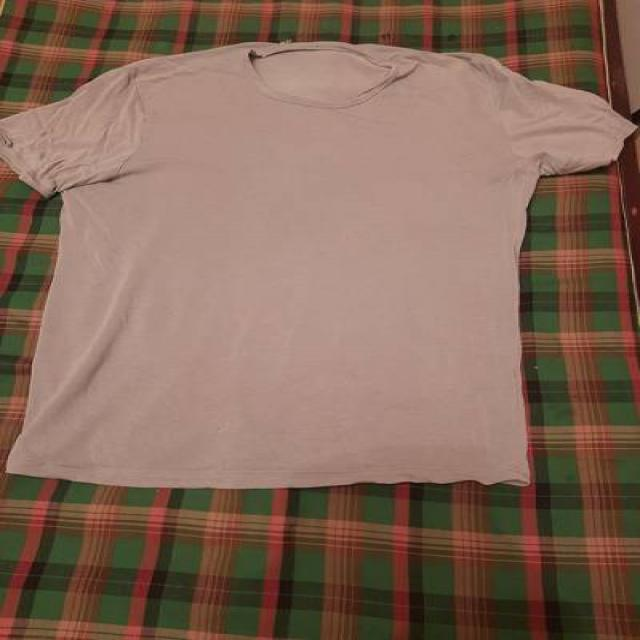Clothes -Biodegradable-: (0, 40, 635, 489)
